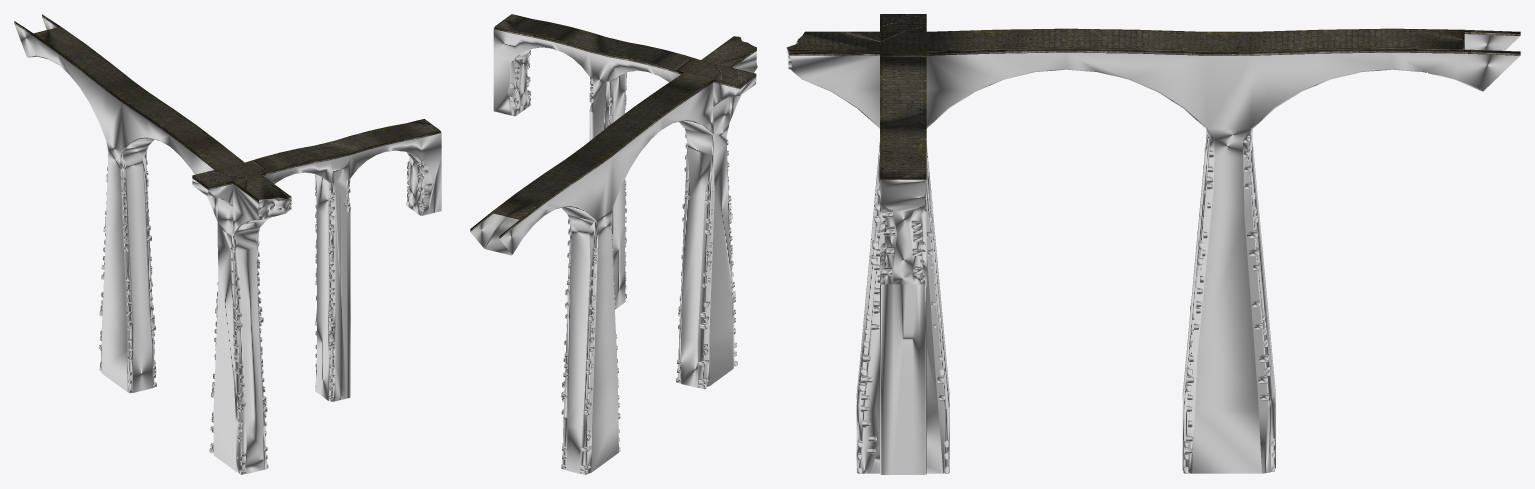
The picture shows the model from 3 angles, left to right: view 1: azimuth 30°, elevation 25°; view 2: azimuth 150°, elevation 25°; view 3: azimuth 270°, elevation 25°; orthographic projection. The views are drawn at different scales.
Parts seen in each view (by area): view 1: mesh0, mesh4, mesh2, mesh1, mesh3, mesh5; view 2: mesh0, mesh4, mesh2, mesh1, mesh3, mesh5; view 3: mesh0, mesh4, mesh2, mesh1, mesh5.
Boxes of the visible parts, x1=… form: mesh0: x1=14, y1=17, x2=441, y2=473; mesh4: x1=14, y1=14, x2=441, y2=202; mesh2: x1=101, y1=143, x2=433, y2=469; mesh1: x1=99, y1=160, x2=432, y2=474; mesh3: x1=192, y1=178, x2=233, y2=206; mesh5: x1=218, y1=162, x2=260, y2=180; mesh0: x1=470, y1=29, x2=757, y2=473; mesh4: x1=470, y1=14, x2=756, y2=238; mesh2: x1=507, y1=58, x2=714, y2=474; mesh1: x1=509, y1=50, x2=737, y2=474; mesh3: x1=713, y1=77, x2=756, y2=106; mesh5: x1=684, y1=60, x2=729, y2=79; mesh0: x1=786, y1=34, x2=1519, y2=474; mesh4: x1=786, y1=14, x2=1520, y2=179; mesh2: x1=856, y1=128, x2=1275, y2=473; mesh1: x1=788, y1=56, x2=1275, y2=473; mesh5: x1=880, y1=31, x2=926, y2=51.
Size of the model in its own units: 16.94 by 20.15 by 31.52.
